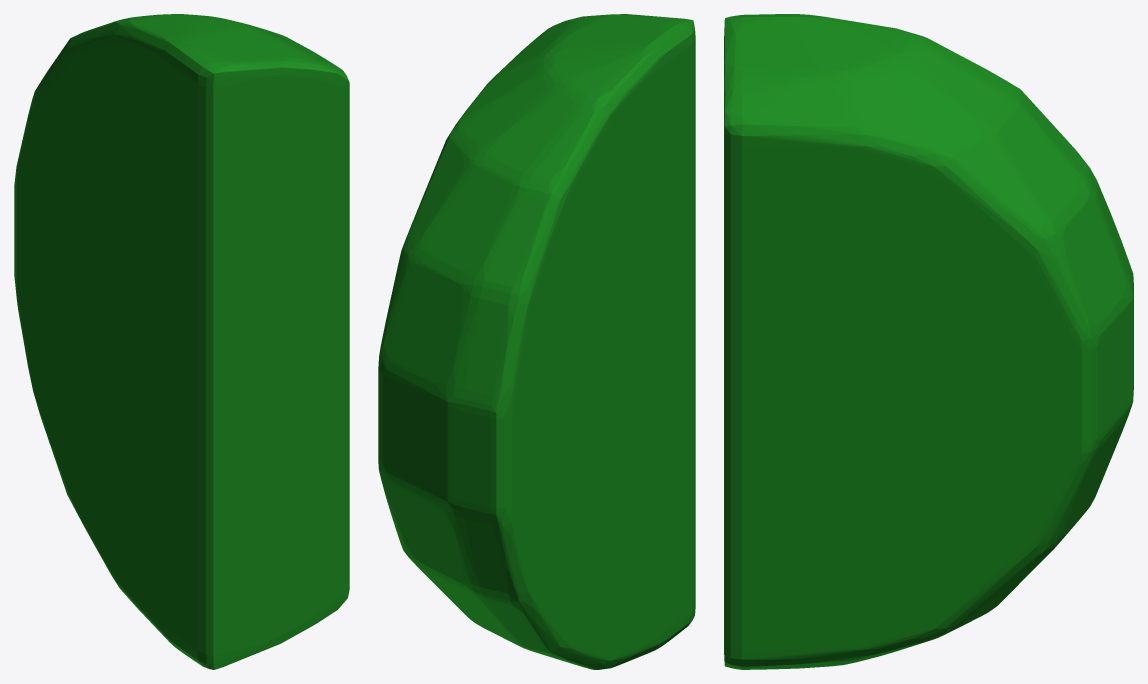
The model's file is right_th_middle_part_8.obj.
3 views of the same model, side by side, from view 1: azimuth 30°, elevation 25°; view 2: azimuth 150°, elevation 25°; view 3: azimuth 270°, elevation 25° (orthographic). The views are drawn at different scales.
Bounding box in the file's own units: 5.81 × 22.39 × 13.31.
